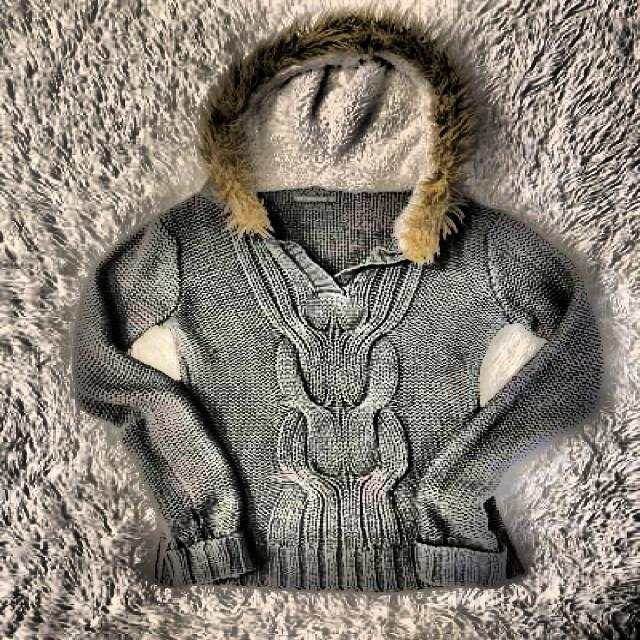clothes: (70, 10, 610, 598)
